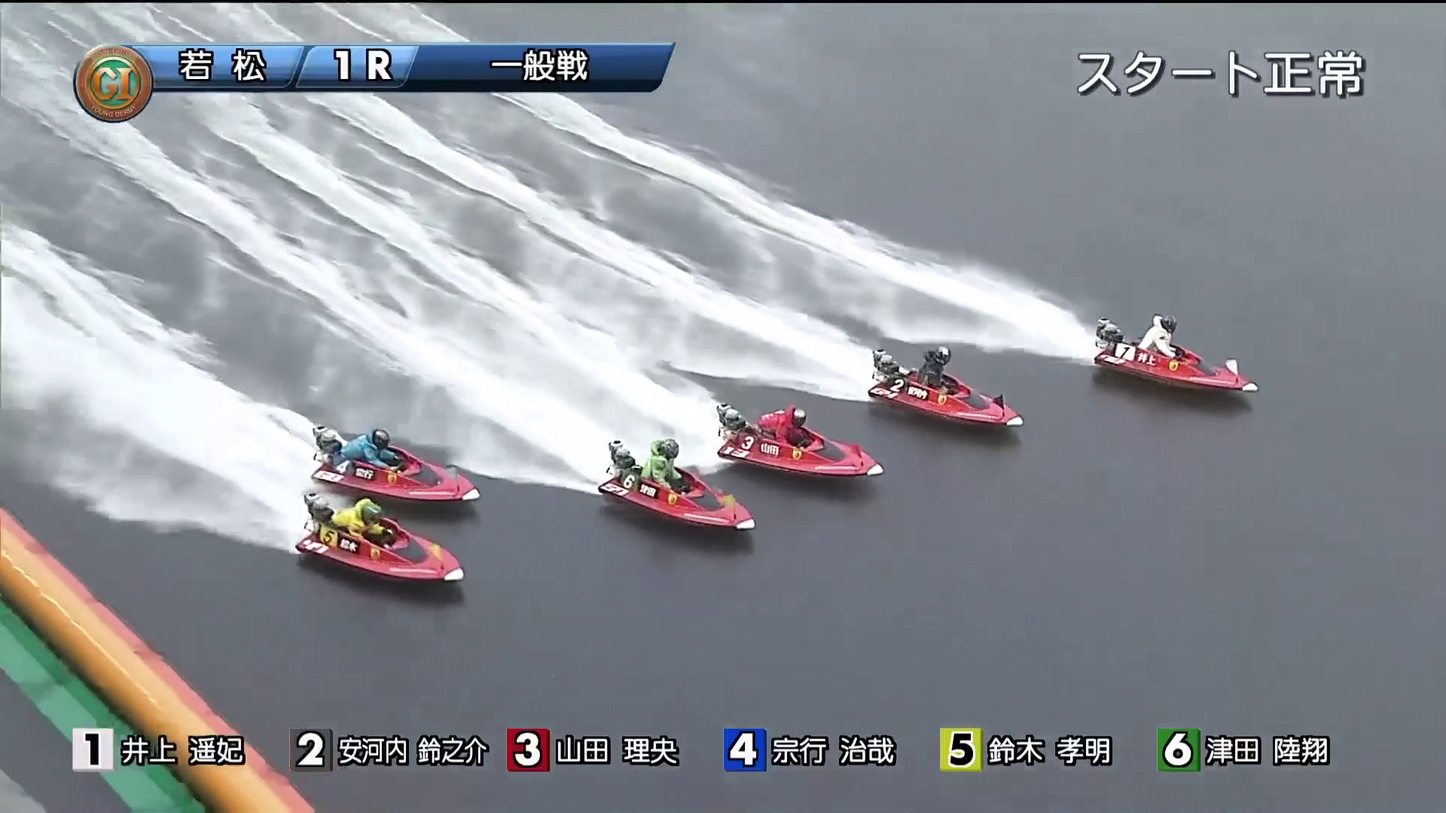１号艇: (1102, 340, 1239, 394)
２号艇: (878, 359, 1006, 419)
３号艇: (743, 425, 883, 467)
４号艇: (619, 459, 739, 524)
５号艇: (329, 437, 453, 492)
６号艇: (353, 527, 453, 584)
